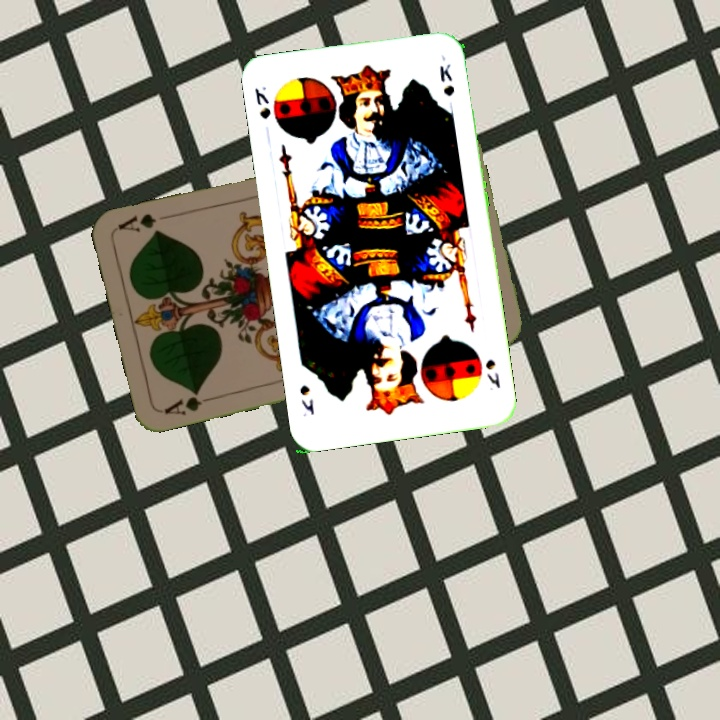GA: (160, 386, 217, 418)
SK: (250, 83, 273, 122), (481, 355, 503, 391)
